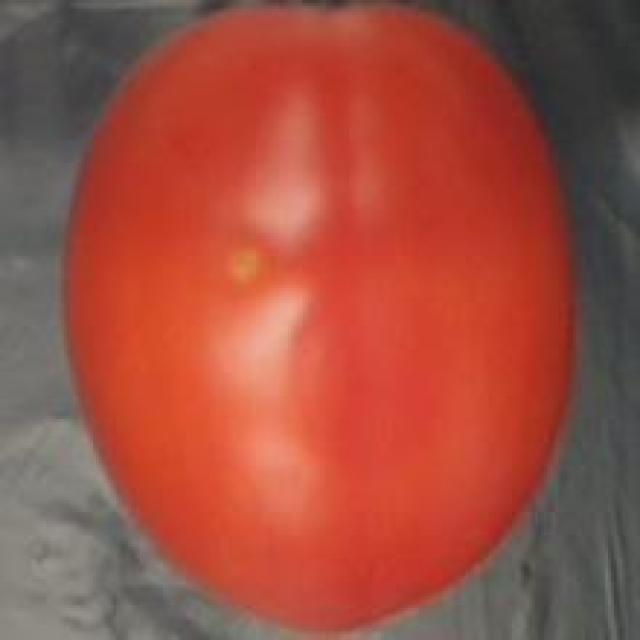ripe tomato: (55, 0, 588, 640)
